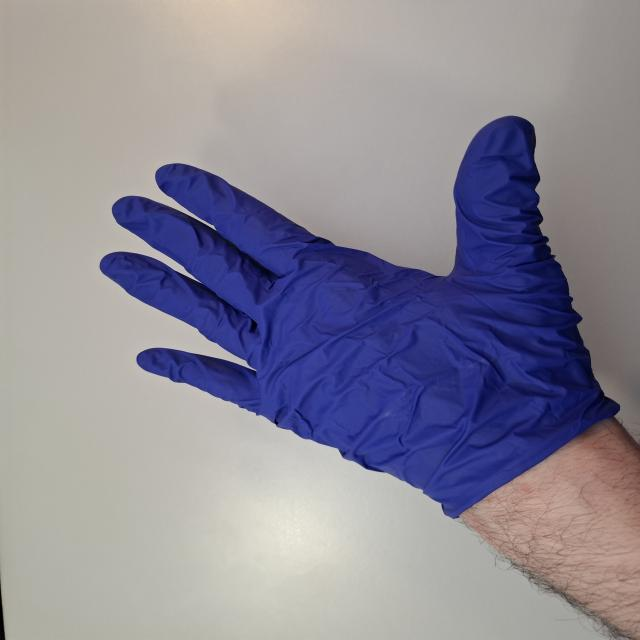glove_on: (97, 113, 607, 500)
